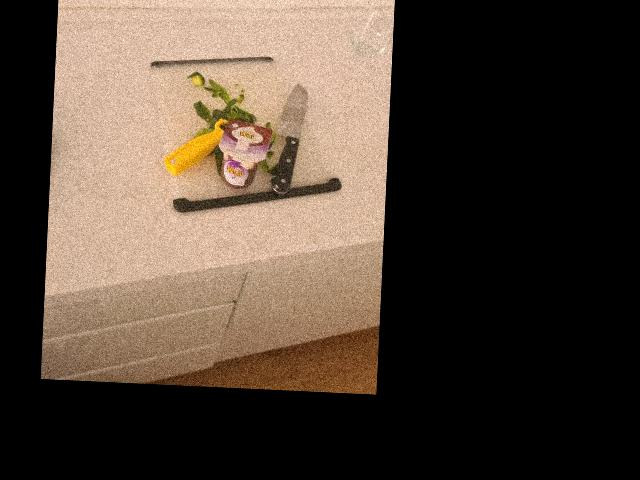milky: (214, 115, 269, 189)
